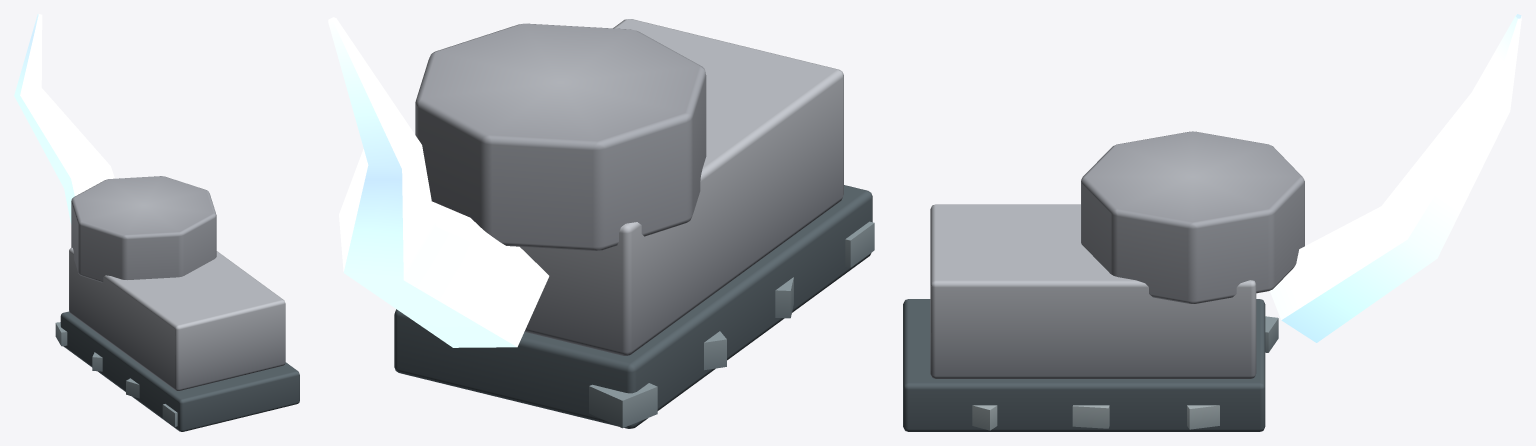
File: lg_gravel_ghost_shoes.glb
3 views of the same model, side by side, from view 1: azimuth 30°, elevation 25°; view 2: azimuth 150°, elevation 25°; view 3: azimuth 270°, elevation 25° (orthographic). The views are drawn at different scales.
Parts seen in each view (by area): view 1: lg_gravel_ghost_shoes, lg_gravel_ghost_shoes_glow, lg_gravel_ghost_shoes_trim; view 2: lg_gravel_ghost_shoes, lg_gravel_ghost_shoes_glow, lg_gravel_ghost_shoes_trim; view 3: lg_gravel_ghost_shoes, lg_gravel_ghost_shoes_glow, lg_gravel_ghost_shoes_trim.
Boxes of the visible parts, x1,y1,x2,y2 form: lg_gravel_ghost_shoes: [60, 176, 299, 431]; lg_gravel_ghost_shoes_glow: [14, 14, 114, 224]; lg_gravel_ghost_shoes_trim: [55, 322, 177, 426]; lg_gravel_ghost_shoes: [394, 19, 872, 428]; lg_gravel_ghost_shoes_glow: [328, 17, 549, 347]; lg_gravel_ghost_shoes_trim: [589, 221, 874, 428]; lg_gravel_ghost_shoes: [903, 131, 1304, 431]; lg_gravel_ghost_shoes_glow: [1270, 14, 1521, 342]; lg_gravel_ghost_shoes_trim: [972, 316, 1278, 430].
Size of the model in its own units: 0.5117 by 0.923 by 1.37.
